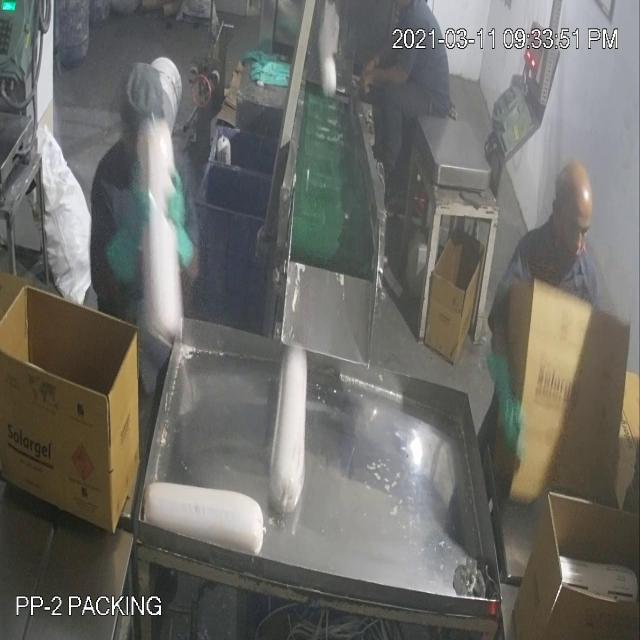gloves: (488, 341, 532, 467)
no-gloves: (354, 34, 412, 105)
